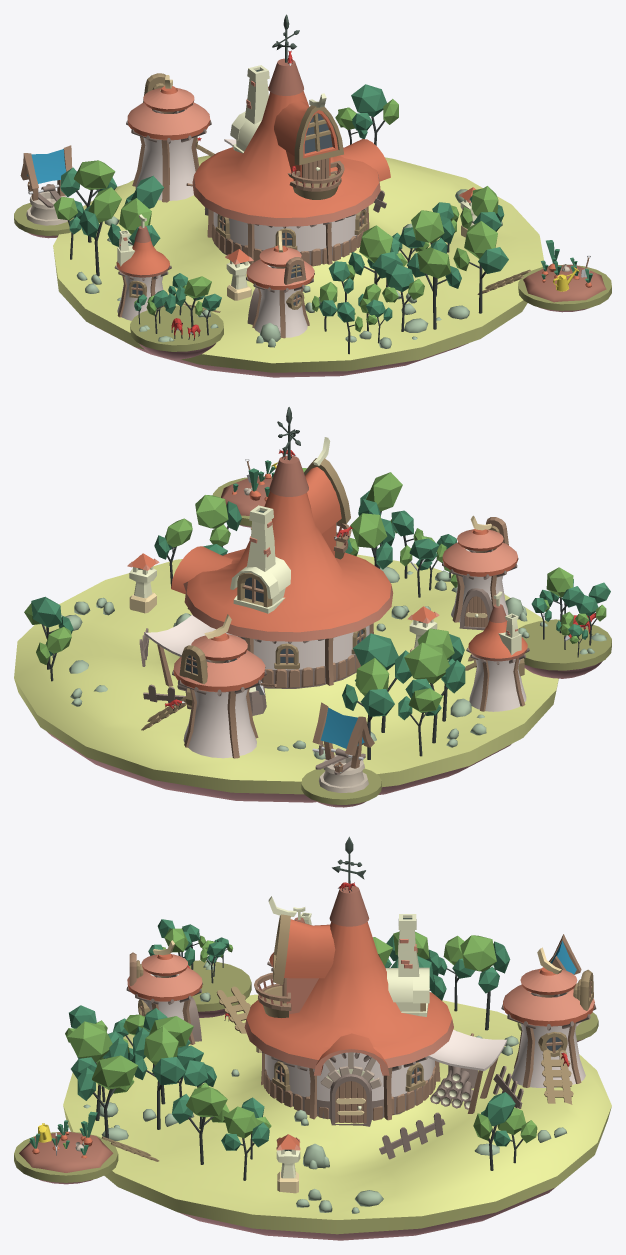
File: island-v2-DQIrLSGw.glb
The picture shows the model from 3 angles, top to bottom: view 1: azimuth 30°, elevation 25°; view 2: azimuth 150°, elevation 25°; view 3: azimuth 270°, elevation 25°; orthographic projection. The views are drawn at different scales.
Parts seen in each view (by area): view 1: pCylinder11, polySurface11, polySurface1188, polySurface12, polySurface345, polySurface342, polySurface16, polySurface1054, pCube205, polySurface840, pSphere1, polySurface1208 (+29 smaller); view 2: pCylinder11, polySurface11, polySurface345, polySurface1188, pSphere1, polySurface342, polySurface1122, polySurface1054, polySurface12, polySurface838, polySurface16, polySurface1522 (+35 smaller); view 3: pCylinder11, polySurface11, polySurface16, polySurface12, polySurface342, pCube205, polySurface1054, pSphere1, polySurface900, polySurface1188, polySurface345, polySurface838 (+31 smaller).
Boxes of the visible parts, x1,y1,x2,y2 form: pCylinder11: [53, 155, 543, 372]; polySurface11: [192, 90, 380, 226]; polySurface1188: [130, 305, 223, 351]; polySurface12: [213, 208, 366, 251]; polySurface345: [135, 110, 195, 200]; polySurface342: [127, 102, 210, 140]; polySurface16: [274, 100, 338, 182]; polySurface1054: [335, 84, 398, 145]; pCube205: [523, 264, 606, 302]; polySurface840: [254, 265, 307, 337]; pSphere1: [95, 326, 468, 377]; polySurface1208: [518, 264, 611, 310]; pCylinder11: [14, 554, 558, 794]; polySurface11: [183, 491, 393, 641]; polySurface345: [183, 659, 256, 758]; polySurface1188: [518, 619, 611, 670]; pSphere1: [47, 732, 511, 802]; polySurface342: [173, 650, 265, 692]; polySurface1122: [469, 658, 526, 711]; polySurface1054: [24, 596, 73, 681]; polySurface12: [244, 625, 369, 670]; polySurface838: [442, 542, 517, 576]; polySurface16: [305, 467, 341, 556]; polySurface1522: [301, 768, 381, 804]; pCylinder11: [63, 994, 611, 1234]; polySurface11: [244, 922, 453, 1068]; polySurface16: [284, 919, 335, 1014]; polySurface12: [265, 1052, 434, 1101]; polySurface342: [503, 984, 594, 1026]; pCube205: [19, 1131, 113, 1172]; polySurface1054: [473, 1092, 537, 1170]; pSphere1: [179, 1187, 555, 1240]; polySurface900: [427, 1030, 506, 1071]; polySurface1188: [188, 960, 251, 1011]; polySurface345: [511, 993, 585, 1087]; polySurface838: [127, 967, 202, 1001].
Size of the model in its own units: 54.94 by 36.4 by 58.8.
